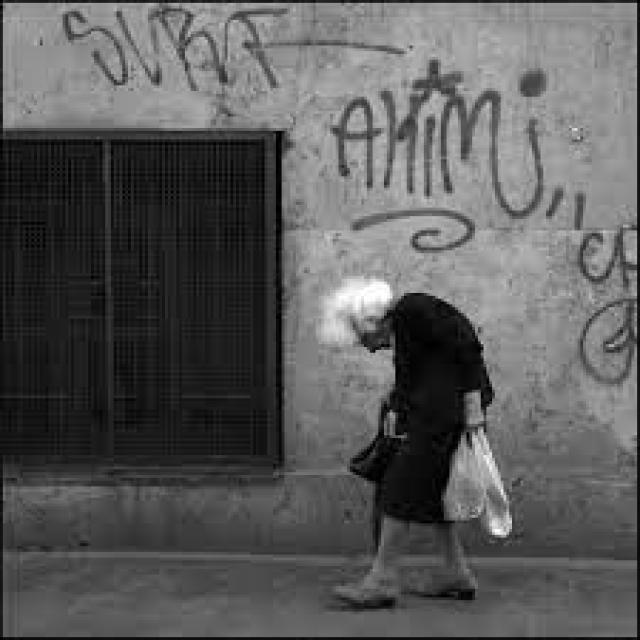idoso em pe: (320, 281, 505, 616)
